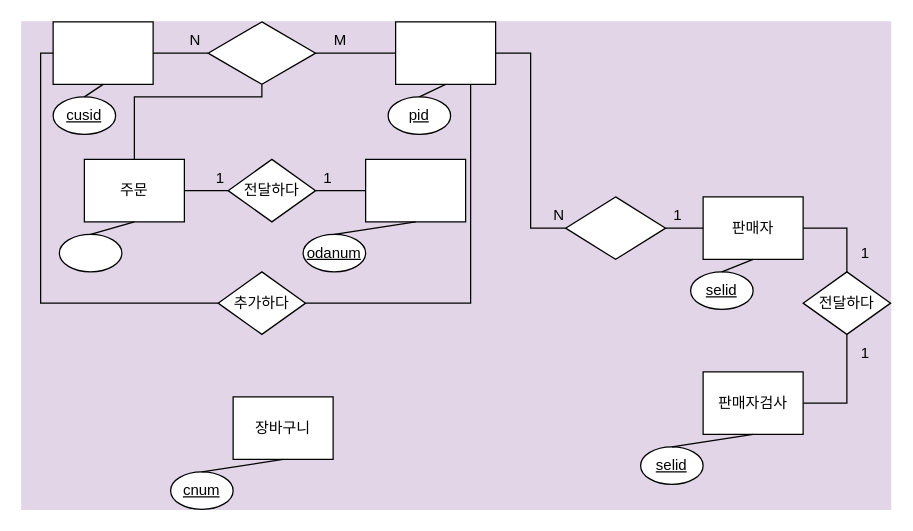
This 913x531 diagram has some shape labels left out. The centre of each missing label's shape, as x and y in pixels:
odnum: the point at 90,252
구매자: the point at 102,52
등록하다: the point at 615,227
상품: the point at 445,52
주문내역: the point at 415,190
주문한다: the point at 261,52
